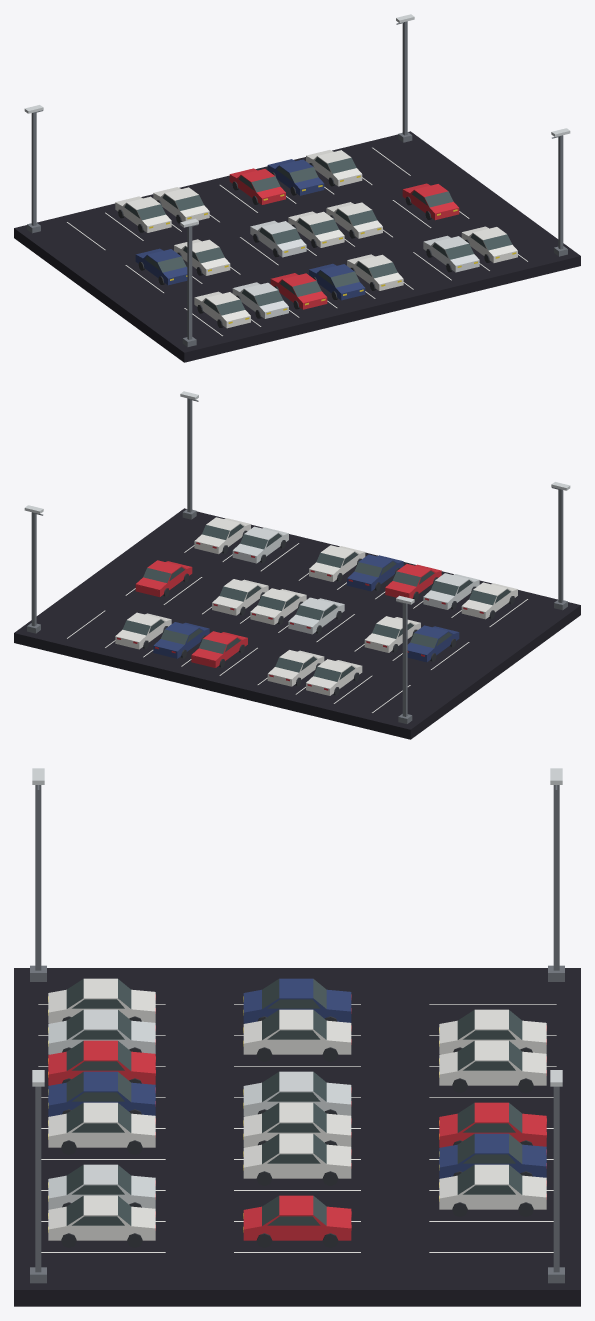
File: mashup-yard-top-prebuilt_close.fbx
The picture shows the model from 3 angles, top to bottom: view 1: azimuth 30°, elevation 25°; view 2: azimuth 150°, elevation 25°; view 3: azimuth 270°, elevation 25°; orthographic projection. The views are drawn at different scales.
Visible parts, largest first — view 1: a1029/0/mashup-yard-top-prebuilt_close; view 2: a1029/0/mashup-yard-top-prebuilt_close; view 3: a1029/0/mashup-yard-top-prebuilt_close.
Part boxes in pixels (x1,y1,x2,y2): a1029/0/mashup-yard-top-prebuilt_close: (14, 14, 580, 362); a1029/0/mashup-yard-top-prebuilt_close: (14, 391, 580, 739); a1029/0/mashup-yard-top-prebuilt_close: (14, 768, 580, 1306).
Size of the model in its own units: 31.2 by 9.95 by 23.2.
